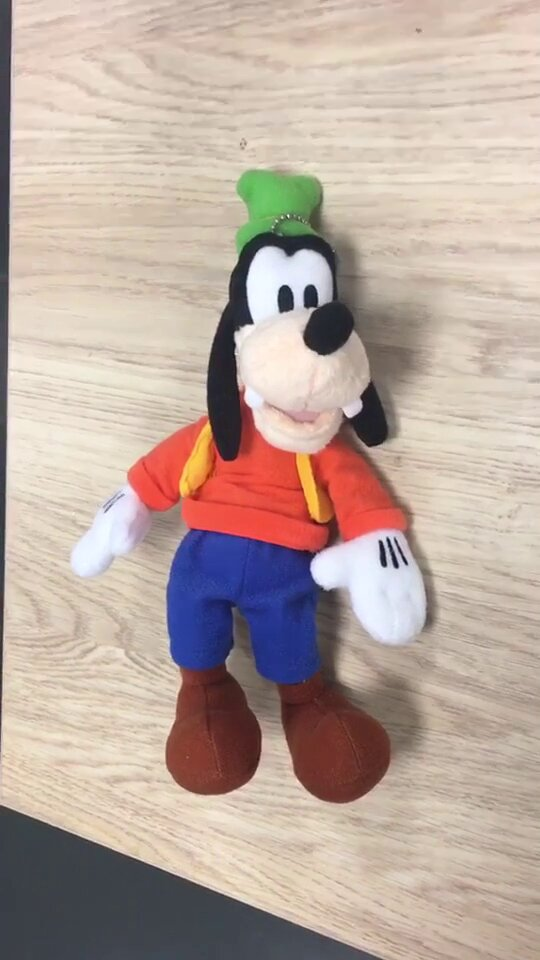goofy: (69, 166, 432, 810)
